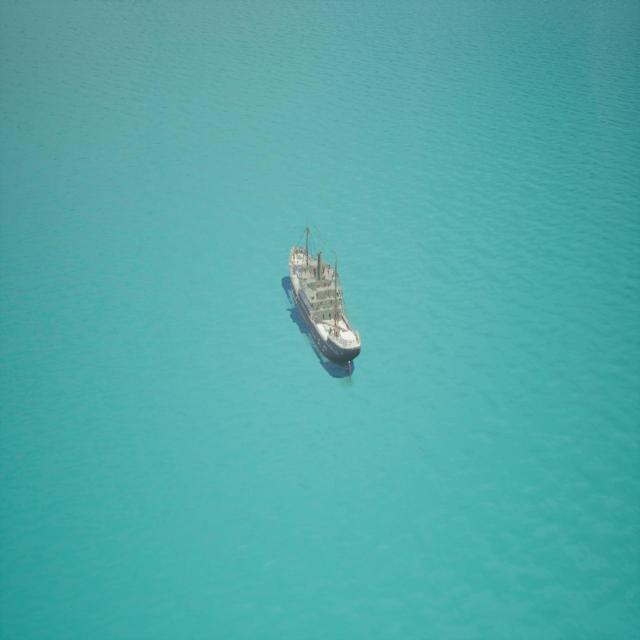fishing ship: (285, 217, 362, 380)
